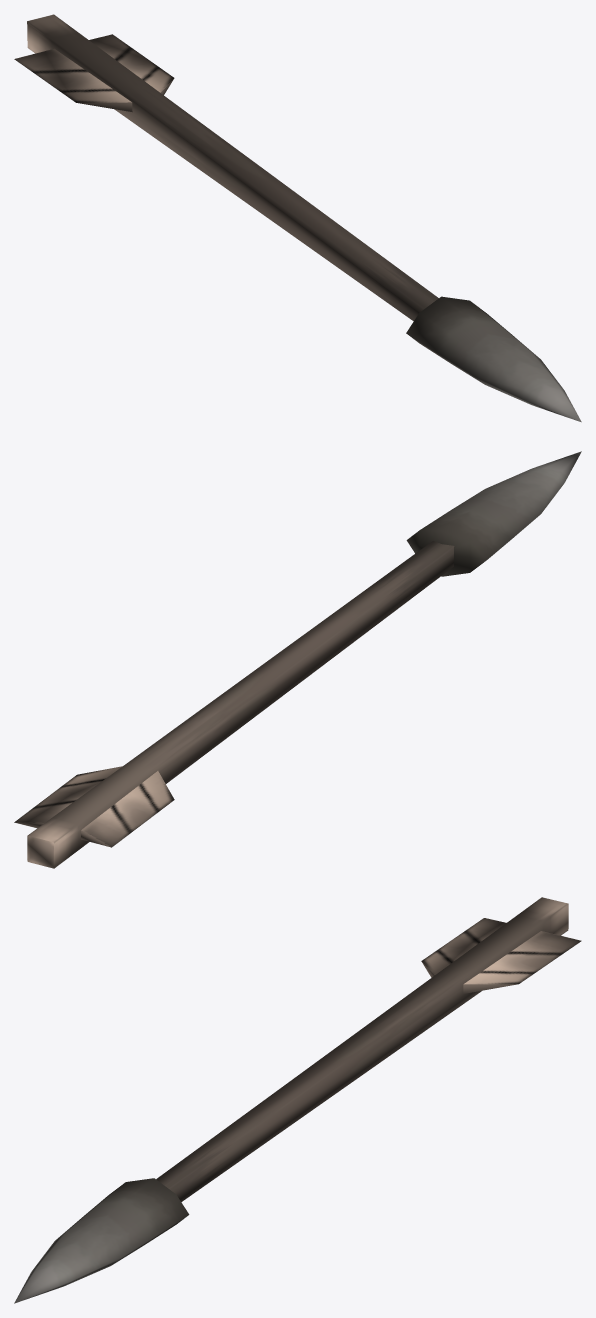
The model's file is ma04_Weapon_Bow_Arrow.FBX.
The picture shows the model from 3 angles, top to bottom: view 1: azimuth 30°, elevation 25°; view 2: azimuth 150°, elevation 25°; view 3: azimuth 330°, elevation 25°; orthographic projection.
Parts seen in each view (by area): view 1: Weapon_Bow_Arrow; view 2: Weapon_Bow_Arrow; view 3: Weapon_Bow_Arrow.
Boxes of the visible parts, x1=… form: Weapon_Bow_Arrow: x1=14, y1=14, x2=581, y2=422; Weapon_Bow_Arrow: x1=14, y1=451, x2=581, y2=868; Weapon_Bow_Arrow: x1=14, y1=897, x2=581, y2=1303.
Size of the model in its own units: 7.8 by 3.46 by 74.1.
